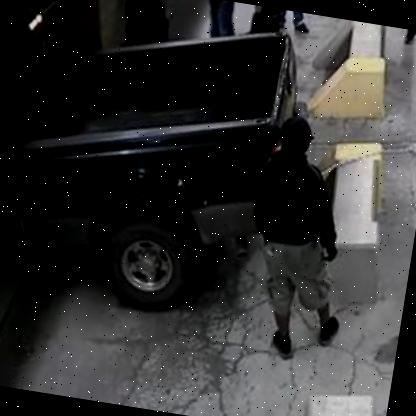person: (222, 106, 392, 372)
